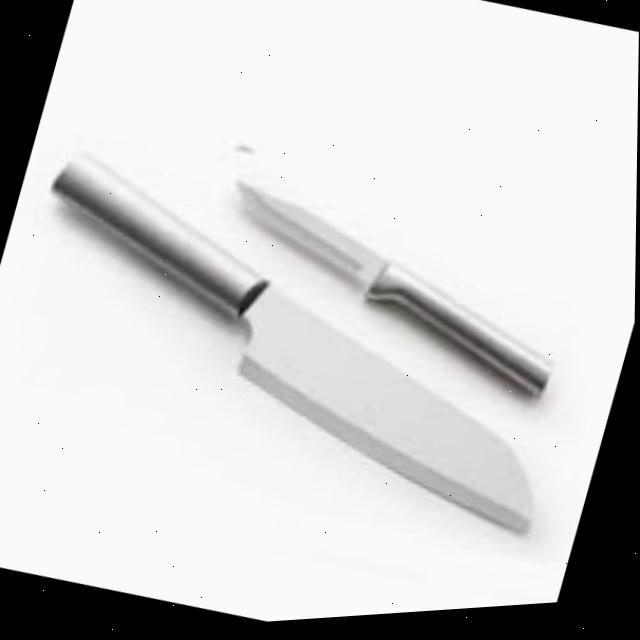Knife: (0, 114, 608, 571), (179, 123, 598, 426)
